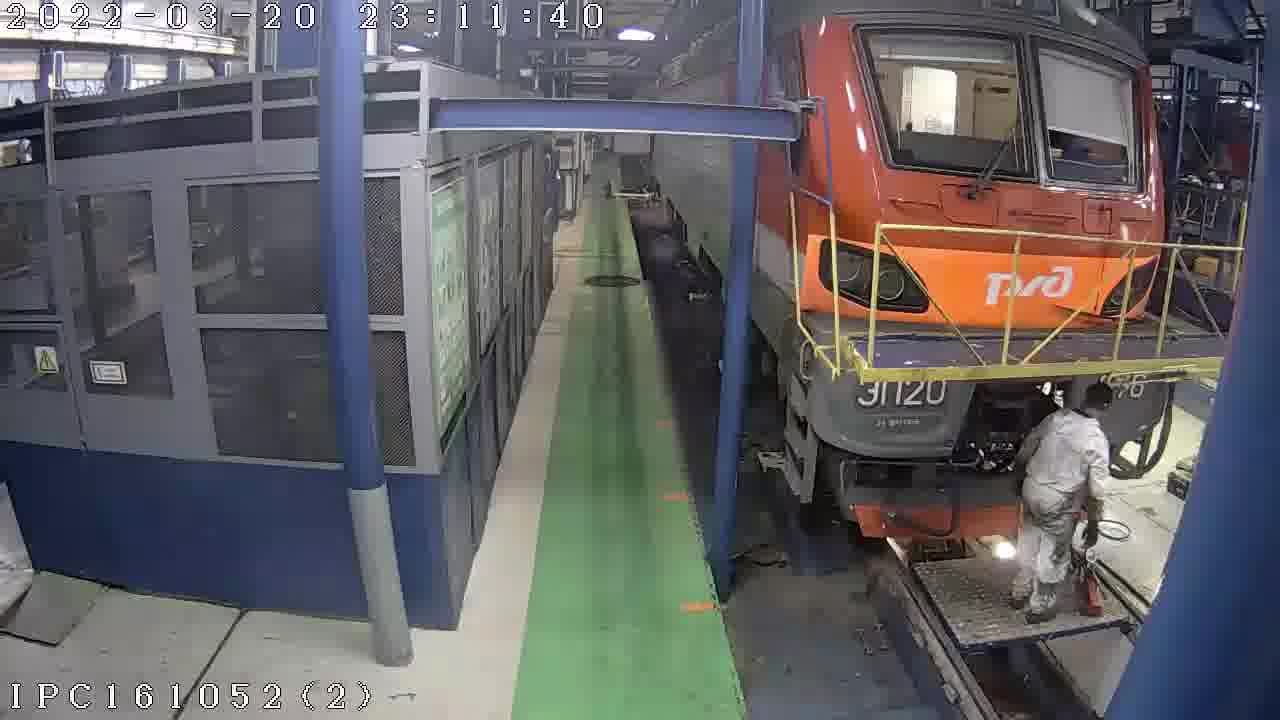train: (1003, 377, 1119, 624)
worker: (646, 0, 1248, 543)
